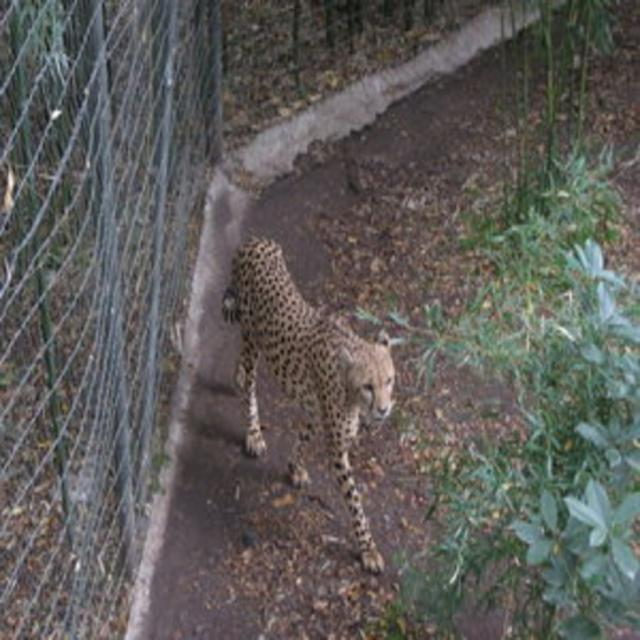Cheetah: (222, 233, 397, 575)
